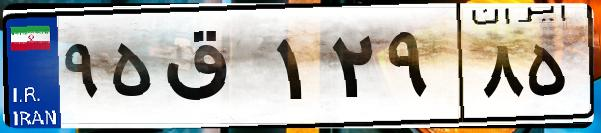1: (270, 28, 330, 110)
2: (330, 28, 385, 110)
5: (525, 38, 570, 115), (110, 28, 158, 98)
8: (475, 38, 525, 113)
9: (385, 28, 445, 110), (57, 26, 110, 100)
ق: (158, 20, 270, 120)
